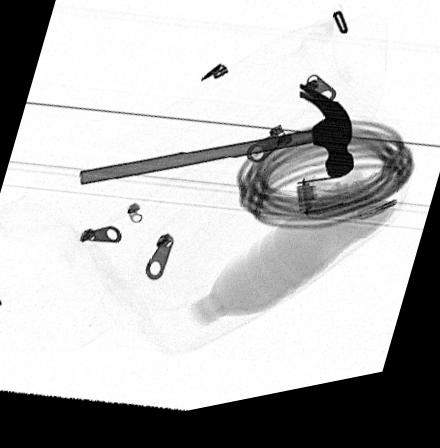Hammer: (79, 95, 354, 194)
